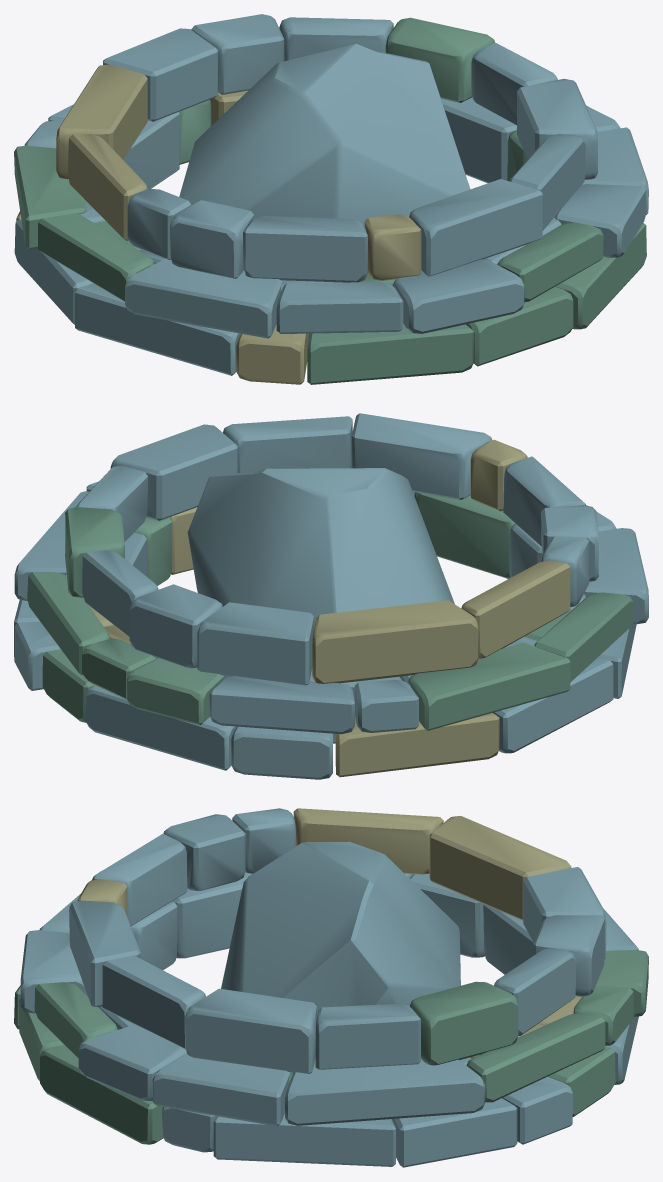
The model's file is SwordStone.fbx.
The picture shows the model from 3 angles, top to bottom: view 1: azimuth 30°, elevation 25°; view 2: azimuth 150°, elevation 25°; view 3: azimuth 270°, elevation 25°; orthographic projection.
Parts seen in each view (by area): view 1: Fountain; view 2: Fountain; view 3: Fountain.
Part boxes in pixels (box(x1,y1,x2,y2)): Fountain: box(14, 14, 648, 384); Fountain: box(14, 413, 648, 779); Fountain: box(14, 808, 648, 1167).
Size of the model in its own units: 983 by 335 by 998.
